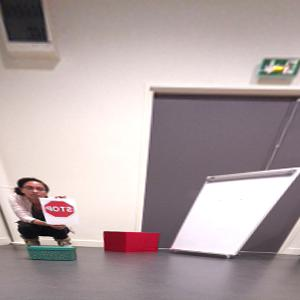stop: (44, 200, 75, 218)
